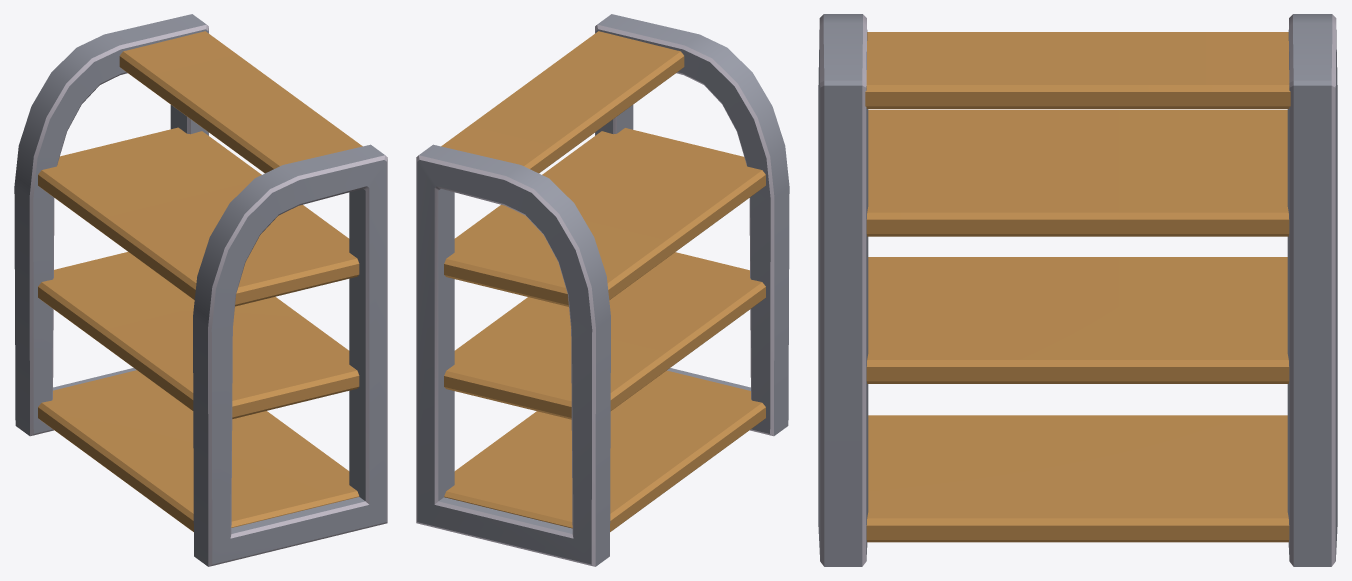
File: StandShelf_1_A.glb
The picture shows the model from 3 angles, left to right: view 1: azimuth 30°, elevation 25°; view 2: azimuth 150°, elevation 25°; view 3: azimuth 270°, elevation 25°; orthographic projection. The views are drawn at different scales.
Parts seen in each view (by area): view 1: StandShelf_1_A; view 2: StandShelf_1_A; view 3: StandShelf_1_A.
Part boxes in pixels (x1,y1,x2,y2): StandShelf_1_A: [14, 14, 387, 566]; StandShelf_1_A: [416, 14, 789, 566]; StandShelf_1_A: [818, 14, 1337, 566].
Bounding box in the file's own units: 0.5231 × 1.03 × 0.9953.
2 materials, 2 textured.
